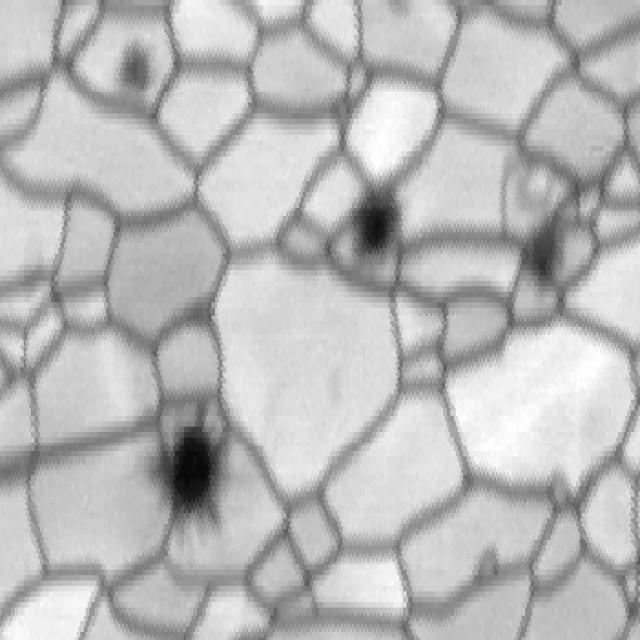good_void: (137, 411, 234, 537), (348, 188, 403, 270), (513, 200, 562, 290), (117, 42, 155, 95)
